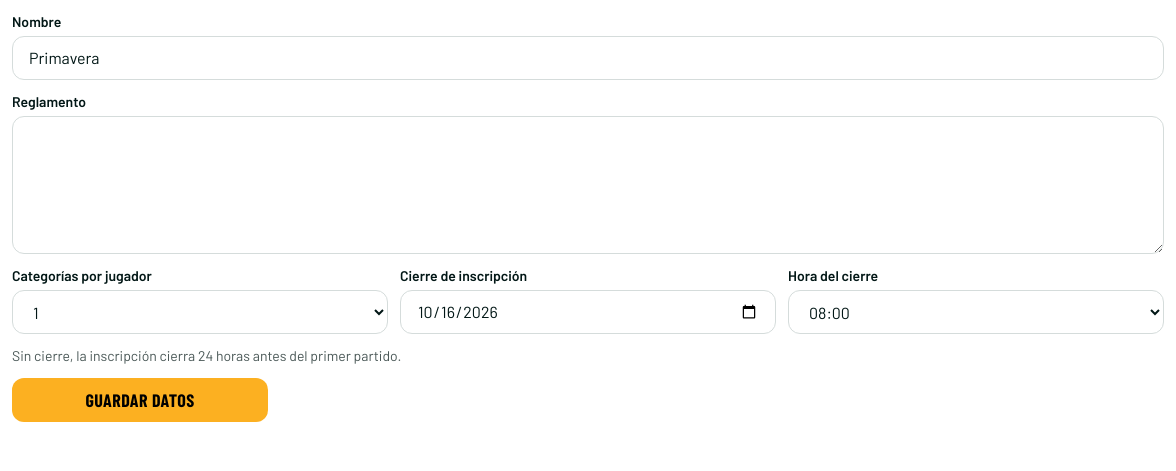
Scenario: ChampionshipDetailsForm › edits a championship starting from what it has
This screenshot has width=1176, height=471.
Expected: the field labelled "Nombre" holds "Primavera", [12,36,1164,80]
Expected: the dropdown labelled "Hora del cierre" shows "08:00", [788,290,1164,334]
Click the button "Guardar datos": {"x": 140, "y": 400} [12,378,268,422]
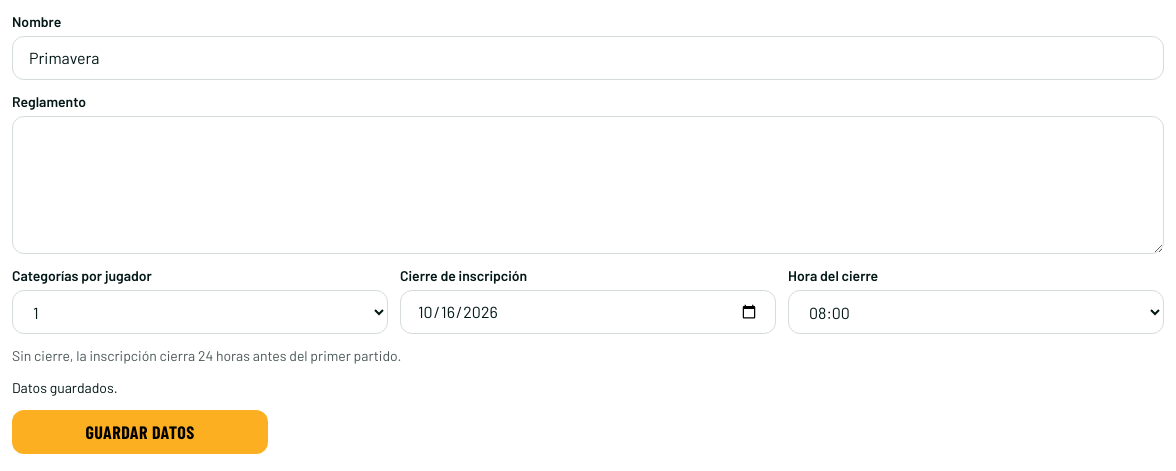
Expected: the message reads "Datos guardados.", [12,379,118,396]
